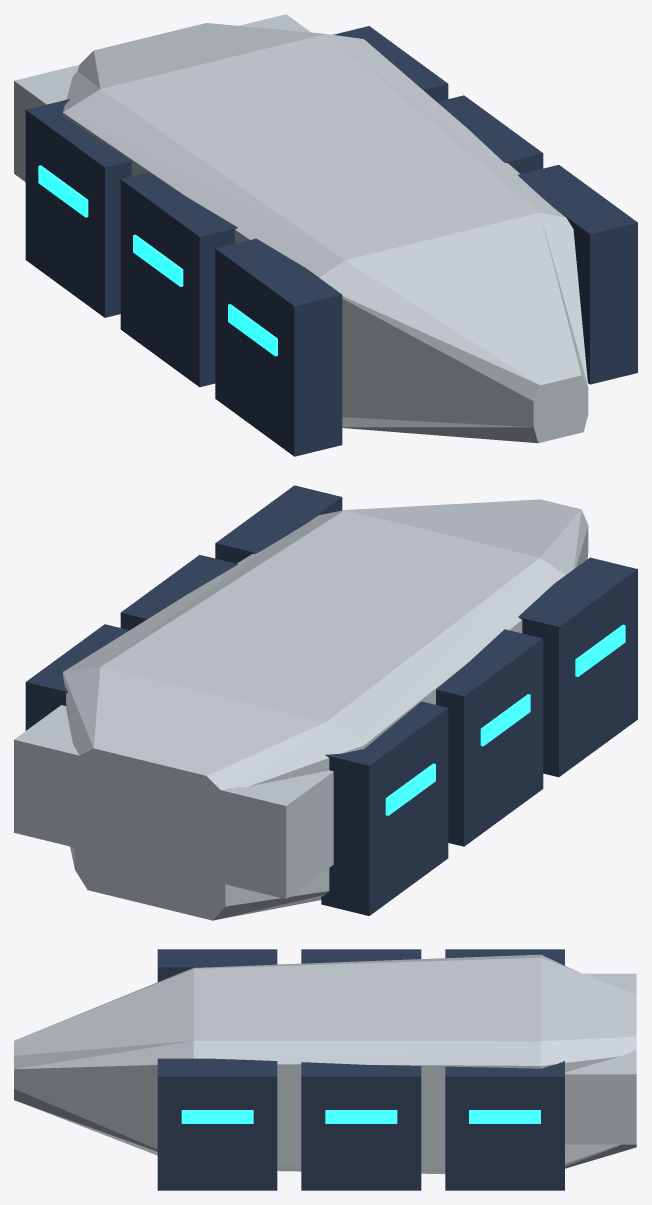
Rendered from dawn_ark.glb.
The picture shows the model from 3 angles, top to bottom: view 1: azimuth 30°, elevation 25°; view 2: azimuth 150°, elevation 25°; view 3: azimuth 270°, elevation 25°; orthographic projection. The views are drawn at different scales.
Visible parts, largest first — view 1: Ark; view 2: Ark; view 3: Ark.
Boxes of the visible parts, <box> form: Ark: <box>14,14,637,456</box>; Ark: <box>14,485,637,920</box>; Ark: <box>14,949,636,1190</box>.
Bounding box in the file's own units: 2.56 × 1.2 × 5.21.
